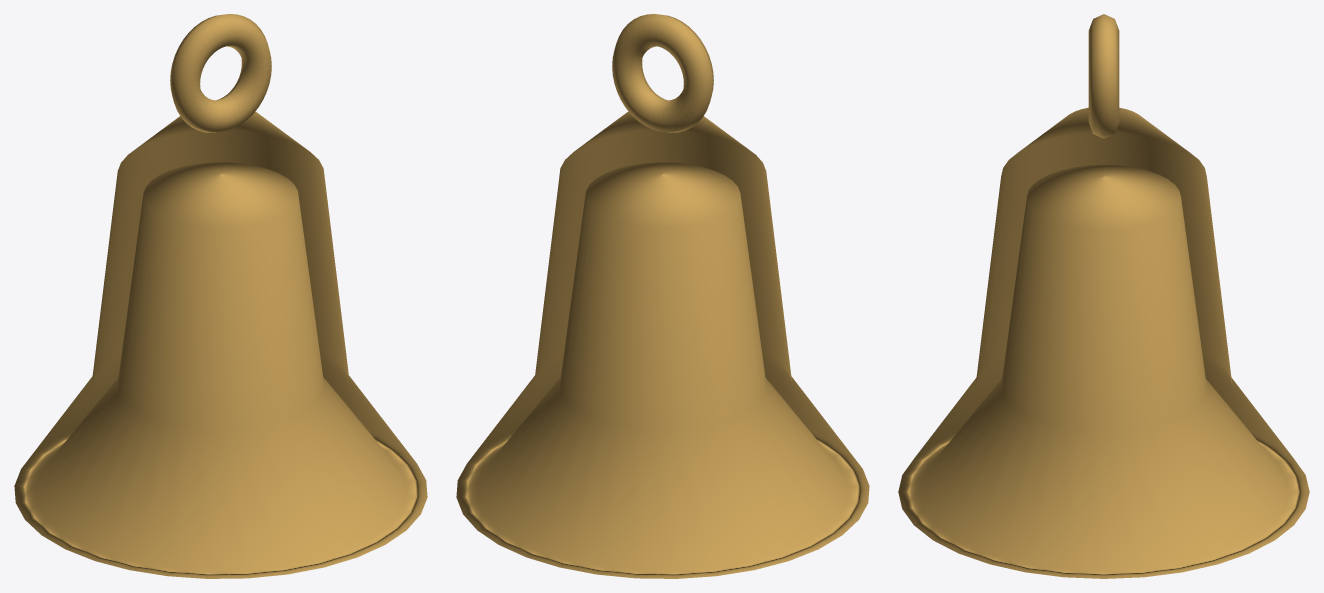
The model's file is wp-cloche-de-paques.glb.
3 renders of one model, left to right at view 1: azimuth 30°, elevation 25°; view 2: azimuth 150°, elevation 25°; view 3: azimuth 270°, elevation 25°, orthographic.
Visible parts, largest first — view 1: wp-cloche-de-paques; view 2: wp-cloche-de-paques; view 3: wp-cloche-de-paques.
Part boxes in pixels (x1,y1,x2,y2): wp-cloche-de-paques: [14, 14, 427, 578]; wp-cloche-de-paques: [456, 14, 869, 578]; wp-cloche-de-paques: [898, 14, 1309, 578].
Bounding box in the file's own units: 0.15 × 0.2 × 0.15.
